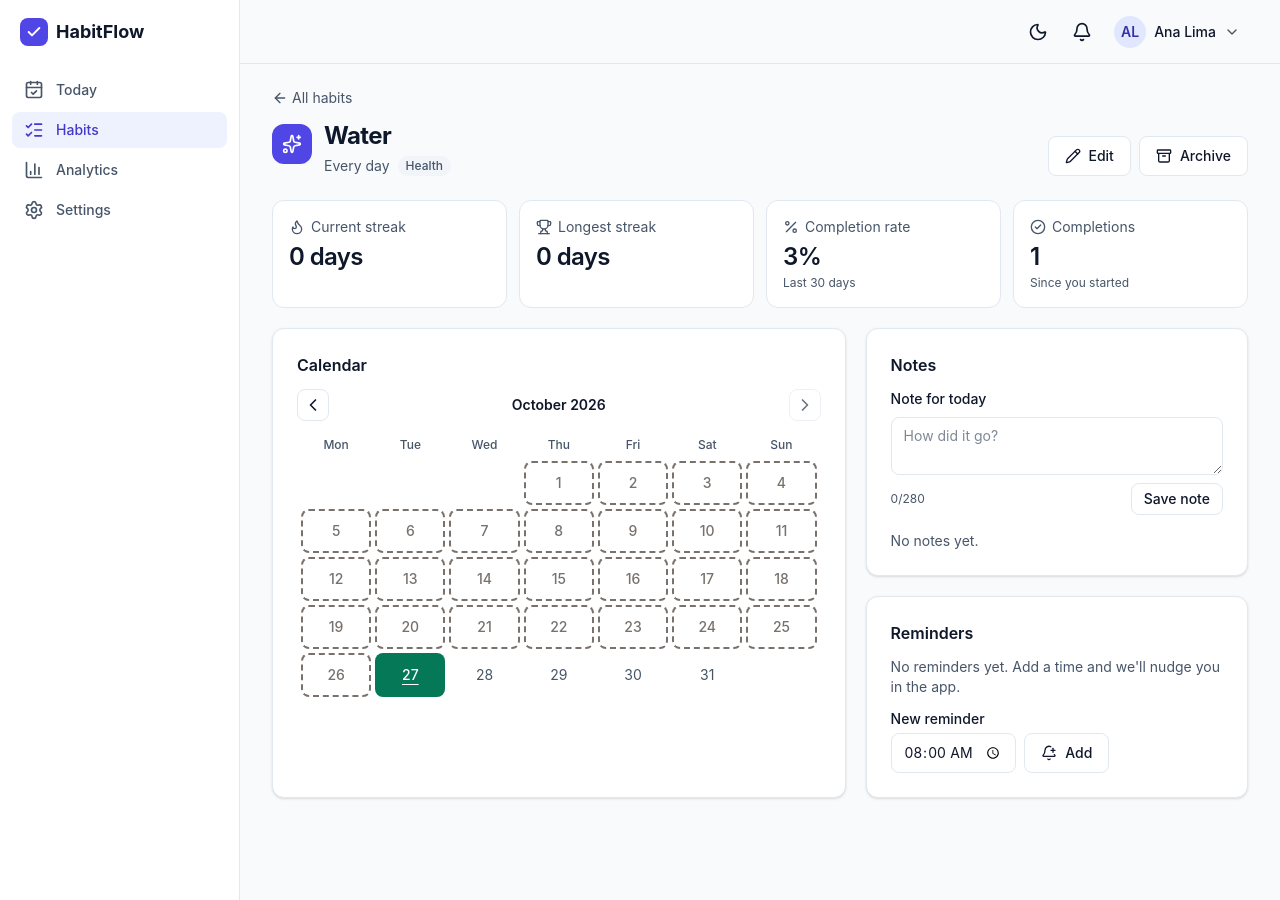
Test: saves a note for today once today is done
Type "Two litres" into the text box labelled "Note for today" at (1057, 446), box [891, 417, 1223, 475]
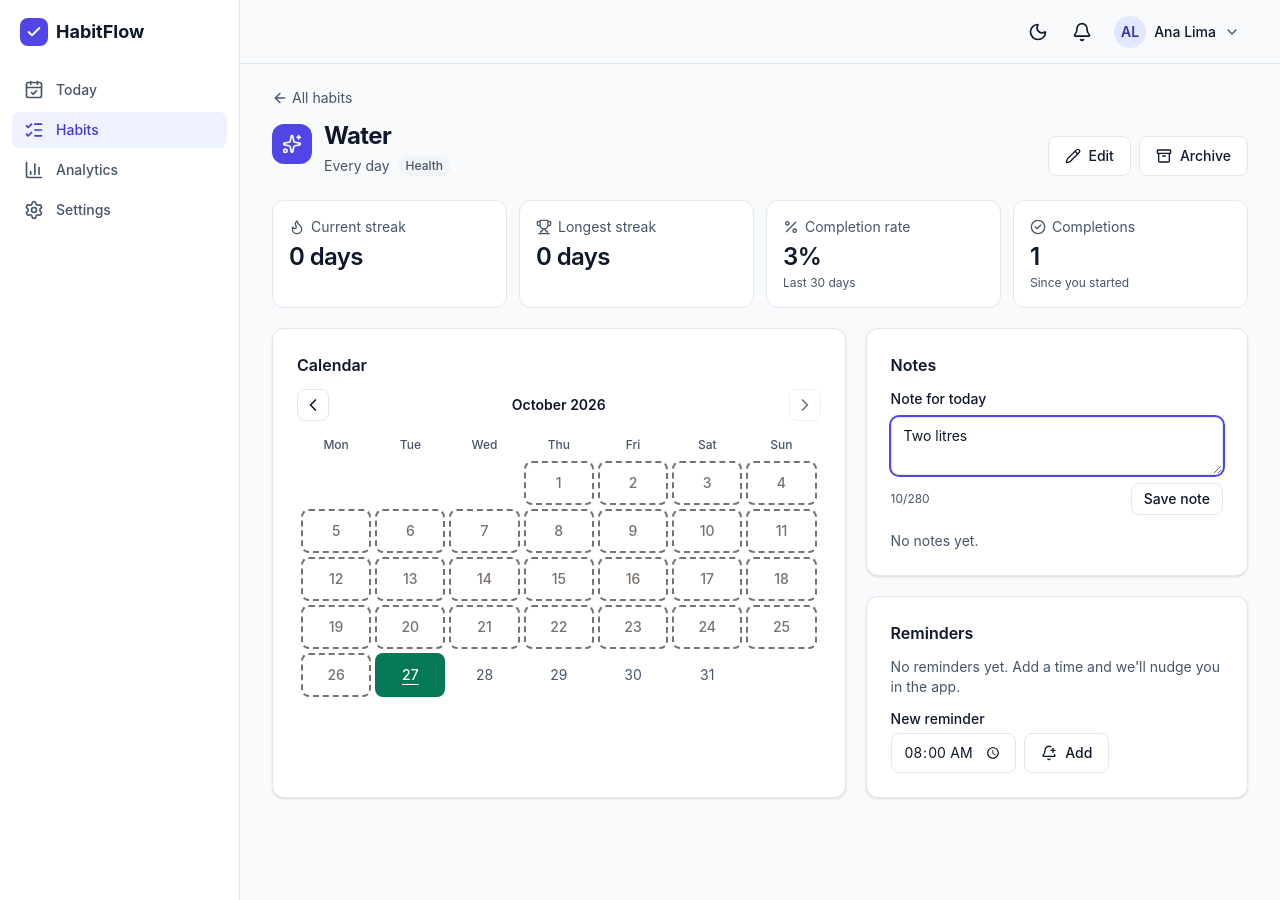
Click the button "Save note" at (1177, 499), box [1131, 483, 1223, 515]
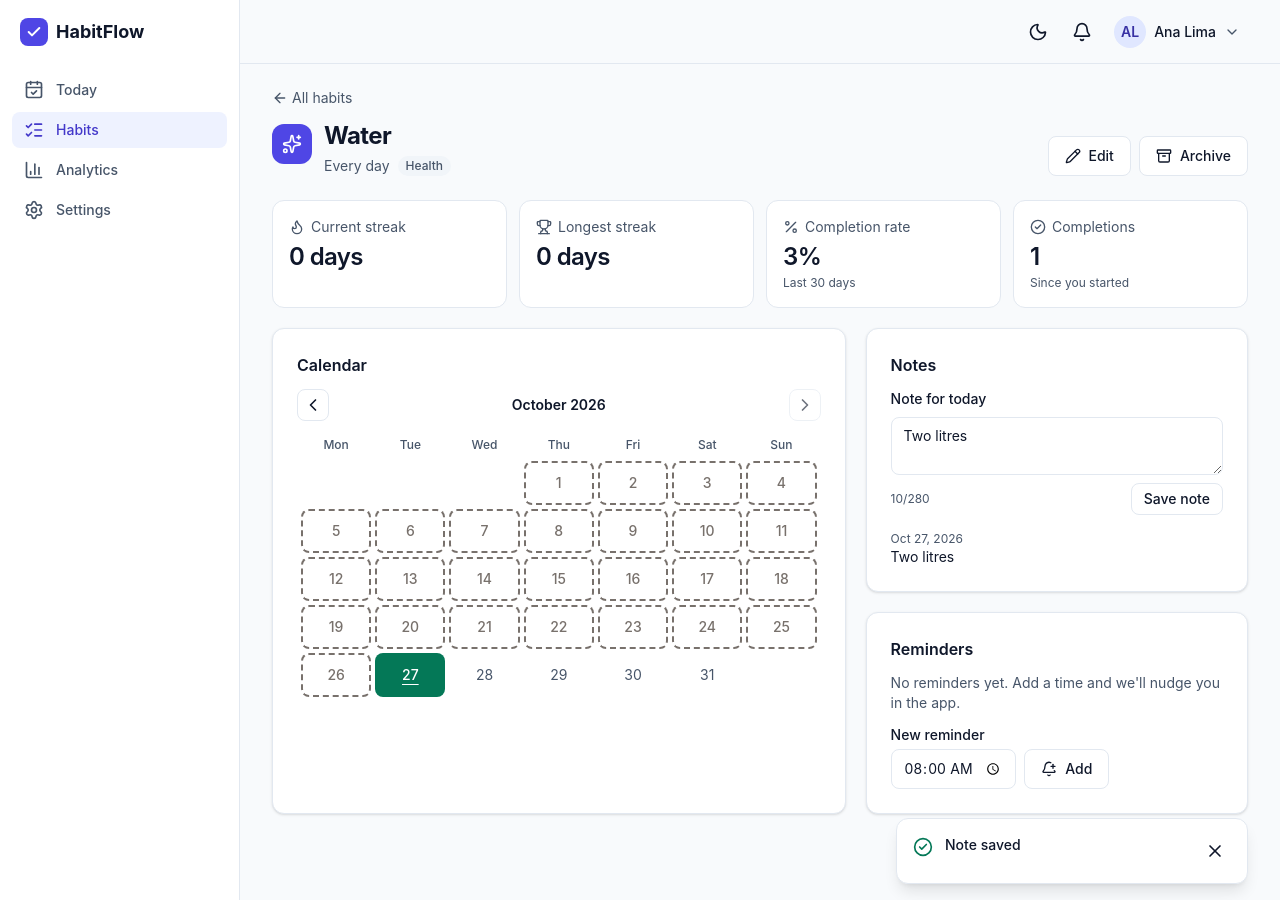
expect the text "Note saved" is shown: met, box [945, 836, 1021, 853]
expect the text "Two litres" is shown: met, box [891, 548, 954, 565]
